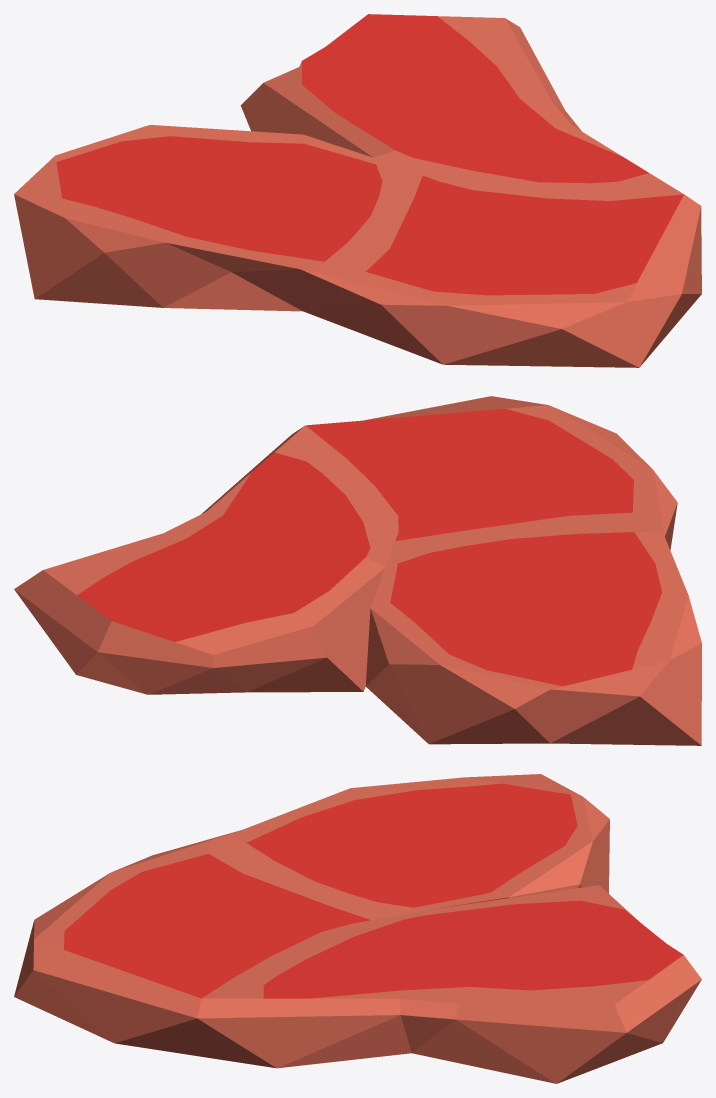
Rendered from Steak.fbx.
3 renders of one model, top to bottom at view 1: azimuth 30°, elevation 25°; view 2: azimuth 150°, elevation 25°; view 3: azimuth 270°, elevation 25°, orthographic. The views are drawn at different scales.
Visible parts, largest first — view 1: Plane; view 2: Plane; view 3: Plane.
Part boxes in pixels (bbox=[...]): Plane: bbox=[14, 14, 701, 367]; Plane: bbox=[14, 396, 701, 745]; Plane: bbox=[14, 774, 701, 1083].
Bounding box in the file's own units: 157 × 24.41 × 170.
